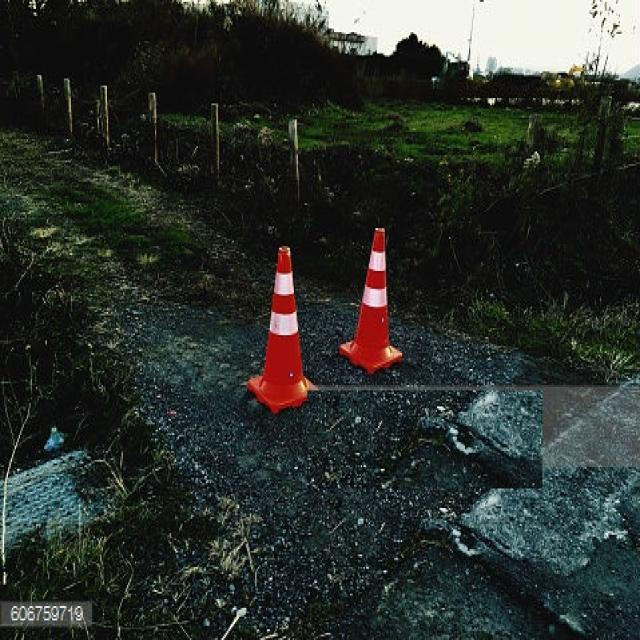Cone: (220, 227, 320, 416), (331, 210, 414, 378)
